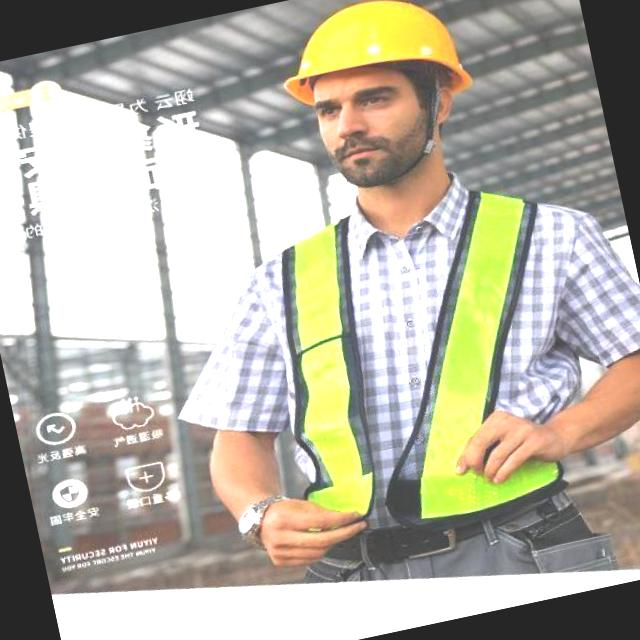vest: (264, 213, 558, 540)
